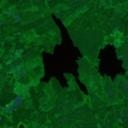alloviz: (39, 13, 89, 96), (96, 43, 126, 82)
